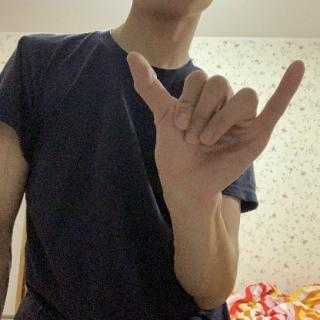YA: (122, 45, 308, 203)
